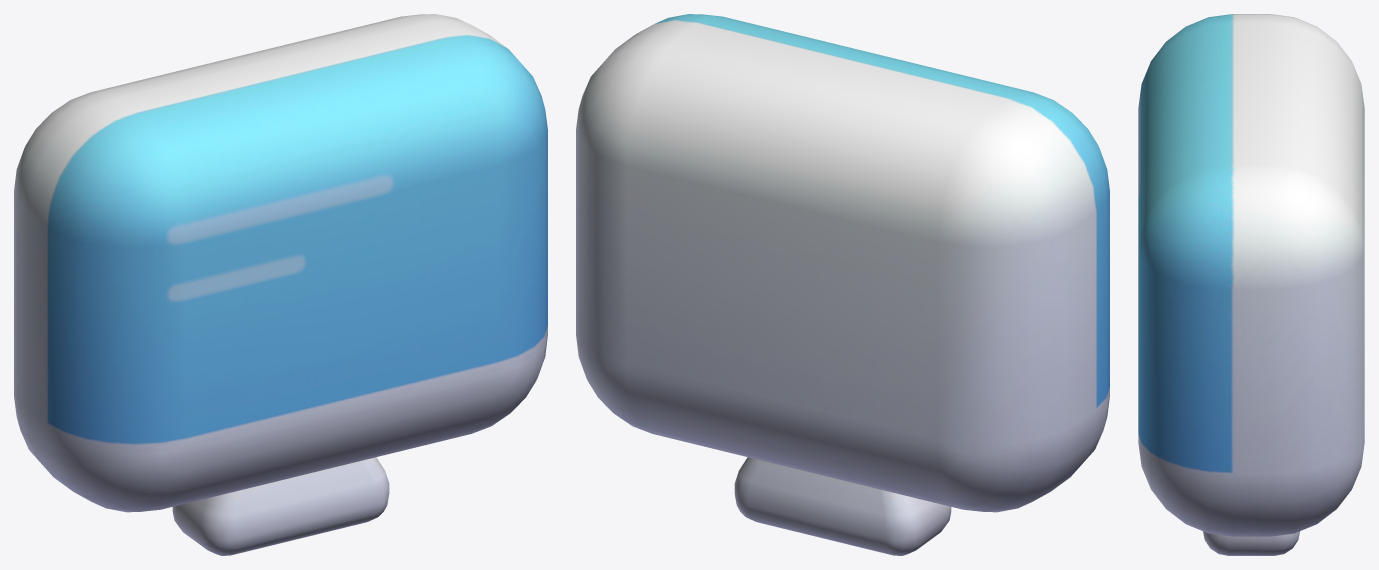
Rendered from xianshiqi.FBX.
The picture shows the model from 3 angles, left to right: view 1: azimuth 30°, elevation 25°; view 2: azimuth 150°, elevation 25°; view 3: azimuth 270°, elevation 25°; orthographic projection. The views are drawn at different scales.
Visible parts, largest first — view 1: xianshiqi; view 2: xianshiqi; view 3: xianshiqi.
Boxes of the visible parts, left/top/right/bottom form: xianshiqi: left=14, top=14, right=547, bottom=555; xianshiqi: left=576, top=14, right=1109, bottom=555; xianshiqi: left=1138, top=14, right=1364, bottom=555.
Size of the model in its own units: 58.48 by 52.79 by 25.24.
